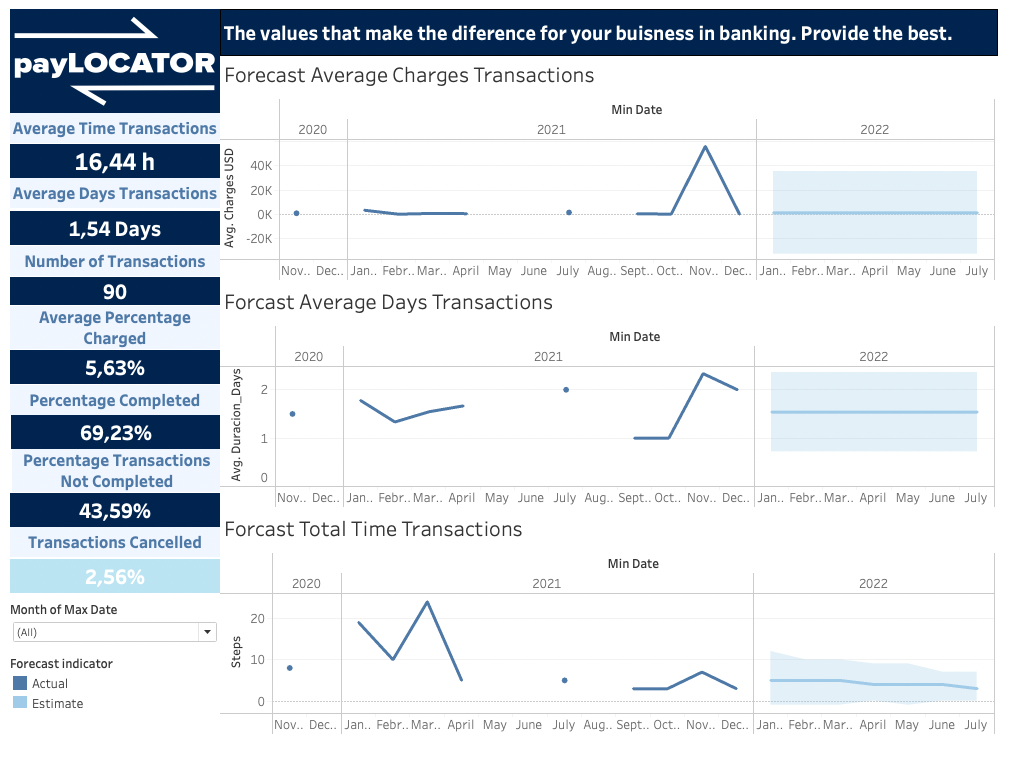

The page's visual inventory and layout, read from the dashboard file:
{"tool":"tableau","page":{"name":"Dashboard 3","canvas":[1000,800],"ordinal":2},"visuals":[{"type":"image","param":"/Users/edgartome_1/IronHack/IronProjects/Project6/logo_white.svg","box":[9,7,202,104]},{"type":"text","box":[212,8,788,47]},{"type":"worksheet","title":"Forcast Average Charges Transations","mark":"Automatic","rows":["Charges USD"],"cols":["Min Date","Min Date"],"box":[214,56,785,225]},{"type":"text","box":[9,111,202,30]},{"type":"worksheet","title":"Avegare Time Transation","mark":"Automatic","box":[9,142,202,34]},{"type":"text","box":[9,176,202,30]},{"type":"worksheet","title":"Avegare Days Transation","mark":"Automatic","box":[9,209,202,34]},{"type":"text","box":[9,244,202,30]},{"type":"worksheet","title":"Number of Transations","mark":"Automatic","box":[9,275,202,34]},{"type":"worksheet","title":"Forcast Average Days Transations","mark":"Automatic","rows":["Duracion"],"cols":["Min Date","Min Date"],"box":[214,281,785,225]},{"type":"text","box":[9,304,202,43]},{"type":"worksheet","title":"Average of Percentage Charged","mark":"Automatic","box":[9,348,202,34]},{"type":"text","box":[9,383,202,30]},{"type":"worksheet","title":"Percentage Completed","mark":"Automatic","box":[10,413,202,34]},{"type":"text","box":[11,447,202,43]},{"type":"worksheet","title":"Percentage Transations not Completed","mark":"Automatic","box":[9,491,202,34]},{"type":"worksheet","title":"Forcast Average Steps Transations","mark":"Automatic","rows":["Steps"],"cols":["Min Date","Min Date"],"box":[213,508,785,225]},{"type":"text","box":[9,525,202,30]},{"type":"worksheet","title":"Transactions Cancelled","mark":"Automatic","box":[9,557,202,34]},{"type":"filter","title":"Forcast Average Charges Transations","param":"[federated.0srqluo1g26l7d138jx4m15isy8j].[mn:Max Date:ok]","box":[9,599,198,60]},{"type":"legend","title":"Forcast Average Days Transations","param":"[federated.0srqluo1g26l7d138jx4m15isy8j].[none:Forecast Indicator:nk]","box":[9,653,194,53]}]}

Visuals, with their boxes on the page's 1000x800 design canvas (x1, y1, x2, y2). These are canvas units, not pixel positions in the 1013x767 screenshot, which may show the page scaled, cropped or inside an application window:
image: 9/7/211/111
text: 212/8/1000/55
"Forcast Average Charges Transations" worksheet: 214/56/999/281
text: 9/111/211/141
"Avegare Time Transation" worksheet: 9/142/211/176
text: 9/176/211/206
"Avegare Days Transation" worksheet: 9/209/211/243
text: 9/244/211/274
"Number of Transations" worksheet: 9/275/211/309
"Forcast Average Days Transations" worksheet: 214/281/999/506
text: 9/304/211/347
"Average of Percentage Charged" worksheet: 9/348/211/382
text: 9/383/211/413
"Percentage Completed" worksheet: 10/413/212/447
text: 11/447/213/490
"Percentage Transations not Completed" worksheet: 9/491/211/525
"Forcast Average Steps Transations" worksheet: 213/508/998/733
text: 9/525/211/555
"Transactions Cancelled" worksheet: 9/557/211/591
"Forcast Average Charges Transations" filter: 9/599/207/659
"Forcast Average Days Transations" legend: 9/653/203/706
